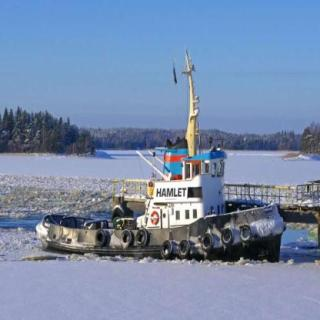Tug Boat: (33, 48, 285, 259)
